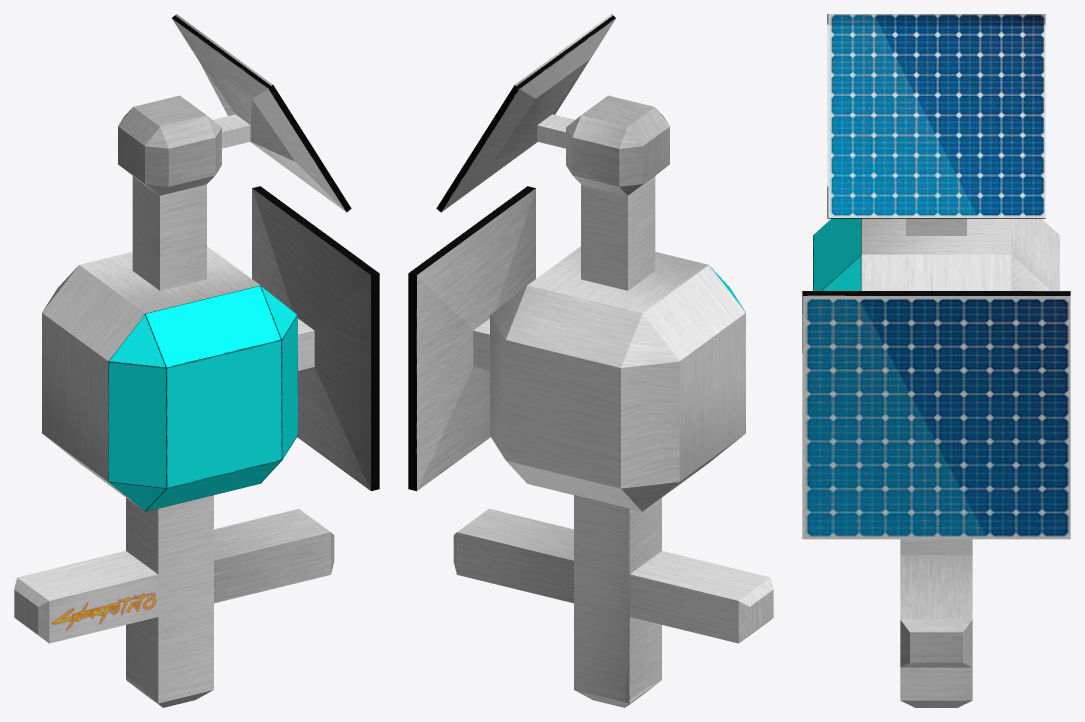
File: S dop Station.fbx
The picture shows the model from 3 angles, left to right: view 1: azimuth 30°, elevation 25°; view 2: azimuth 150°, elevation 25°; view 3: azimuth 270°, elevation 25°; orthographic projection. The views are drawn at different scales.
Parts seen in each view (by area): view 1: Cube; view 2: Cube; view 3: Cube.
Boxes of the visible parts, x1,y1,x2,y2 form: Cube: (14, 14, 379, 707); Cube: (408, 14, 773, 707); Cube: (802, 14, 1070, 707).
Size of the model in its own units: 313 by 640 by 218.
